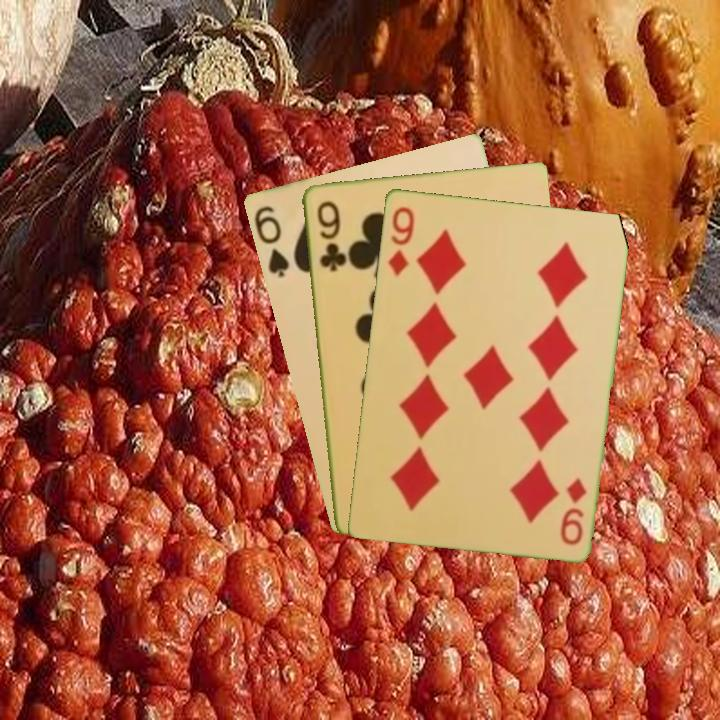6s: (250, 202, 292, 280)
9c: (313, 197, 346, 274)
9d: (383, 202, 417, 279), (556, 474, 589, 548)
